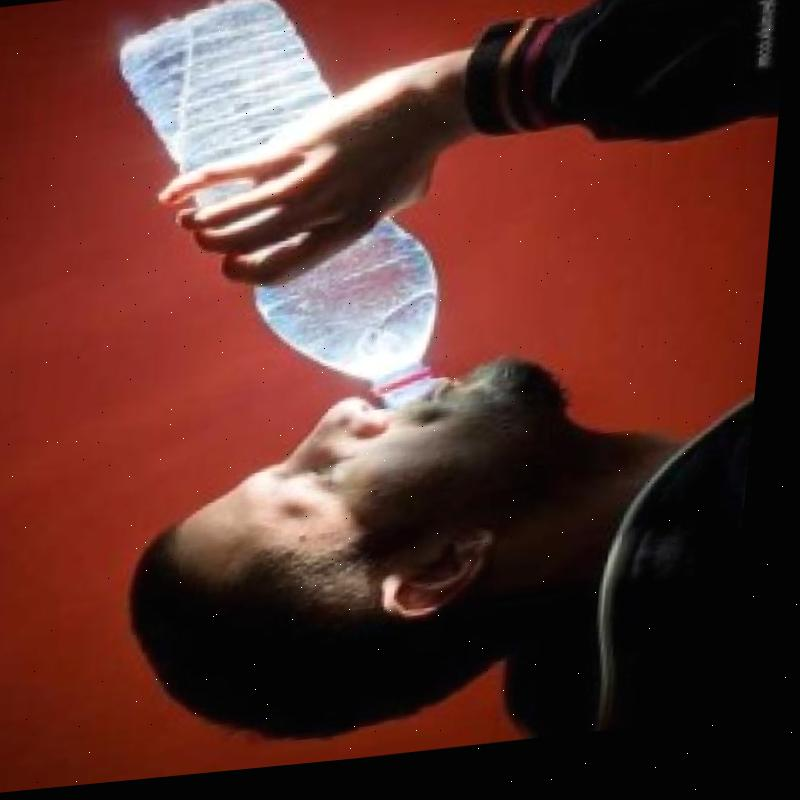botella: (91, 0, 477, 447)
